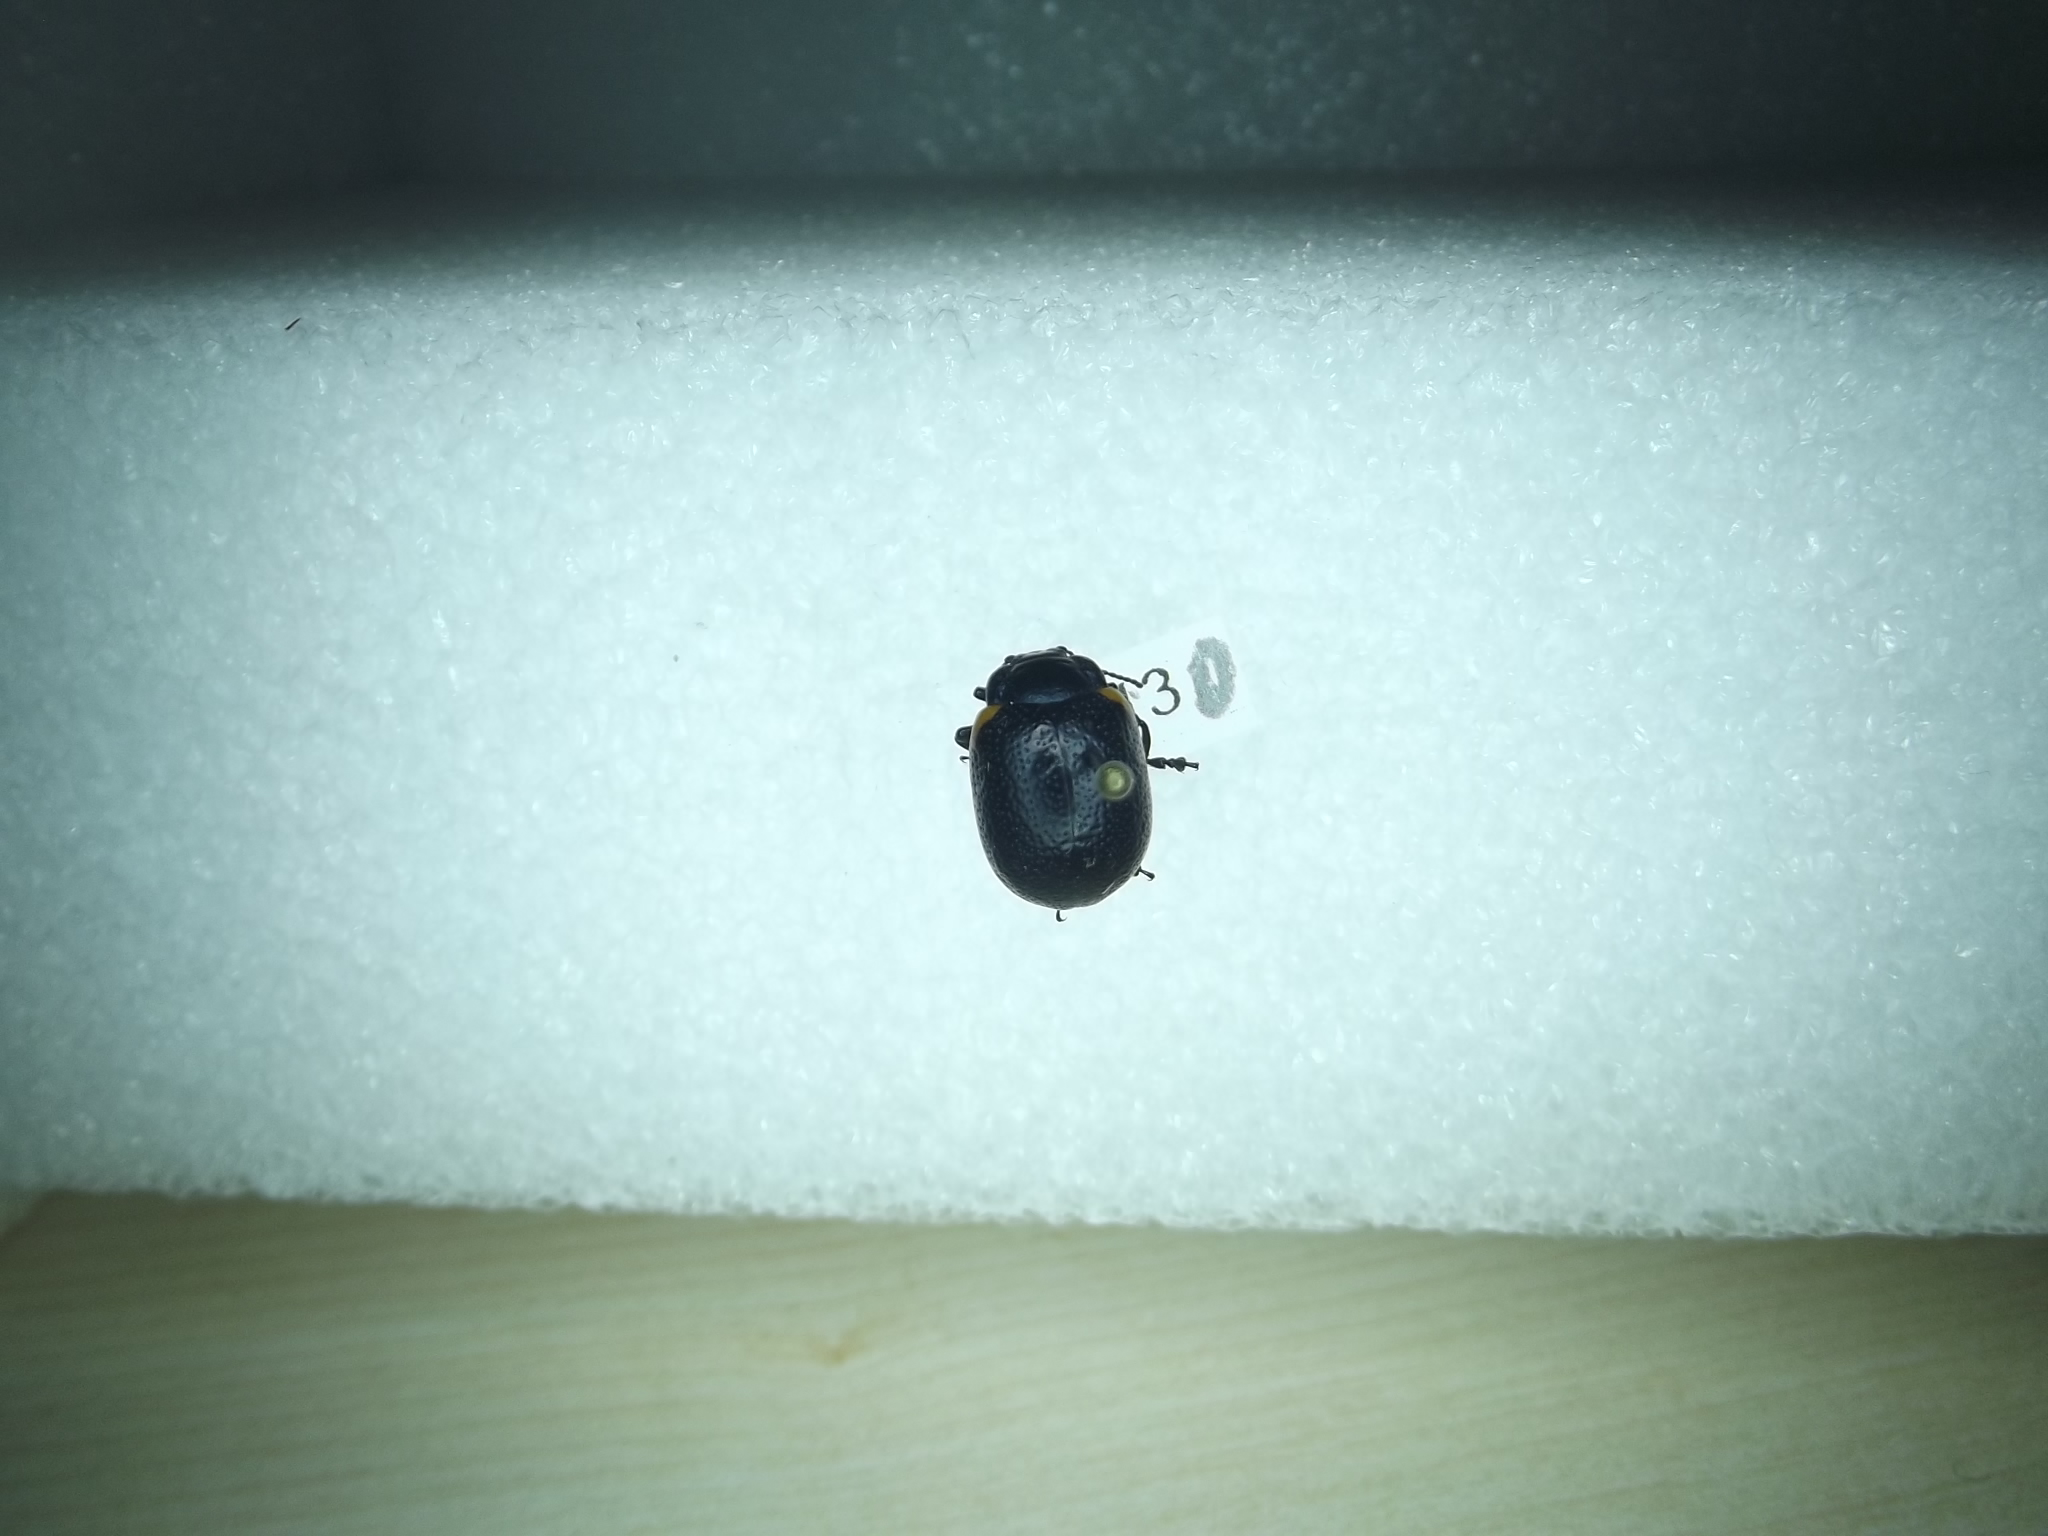Chrysolina_gypsophila: (951, 644, 1200, 920)
